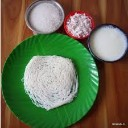idiyappam: (25, 54, 79, 107)
